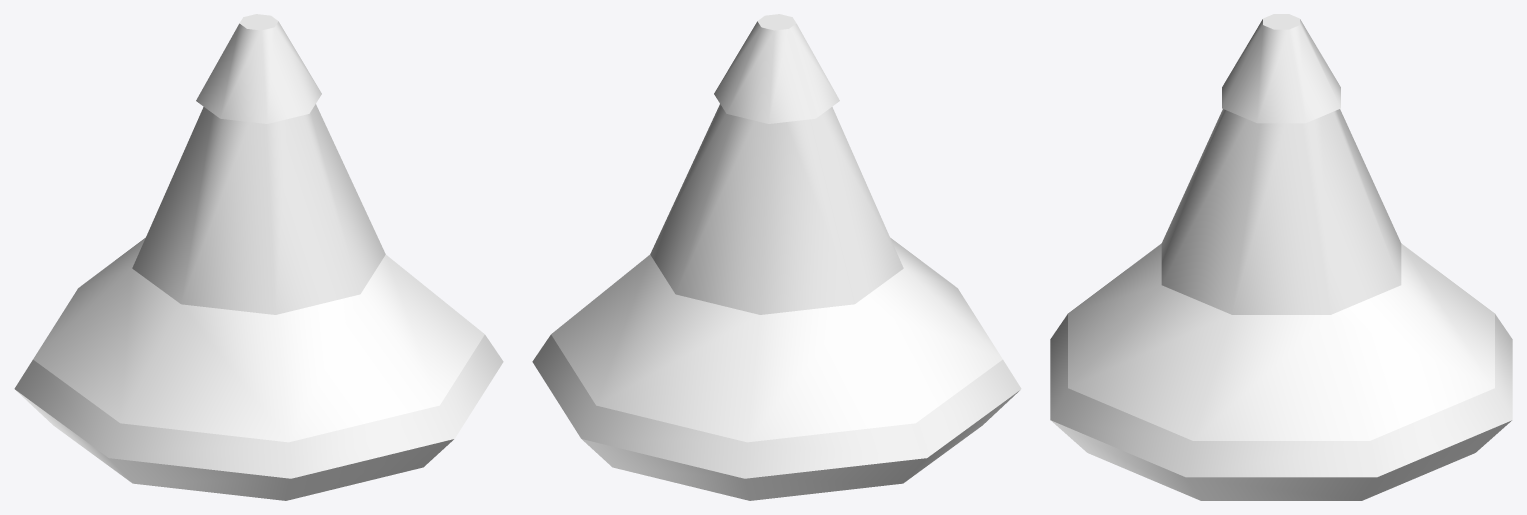
File: tower-roof.glb
3 views of the same model, side by side, from view 1: azimuth 30°, elevation 25°; view 2: azimuth 150°, elevation 25°; view 3: azimuth 270°, elevation 25° (orthographic).
Visible parts, largest first — view 1: tower-roof; view 2: tower-roof; view 3: tower-roof.
Part boxes in pixels (x1,y1,x2,y2): tower-roof: (14,14,503,500); tower-roof: (532,14,1021,500); tower-roof: (1050,14,1512,500).
Bounding box in the file's own units: 3.63 × 3.44 × 3.63.
1 material, 1 textured.
